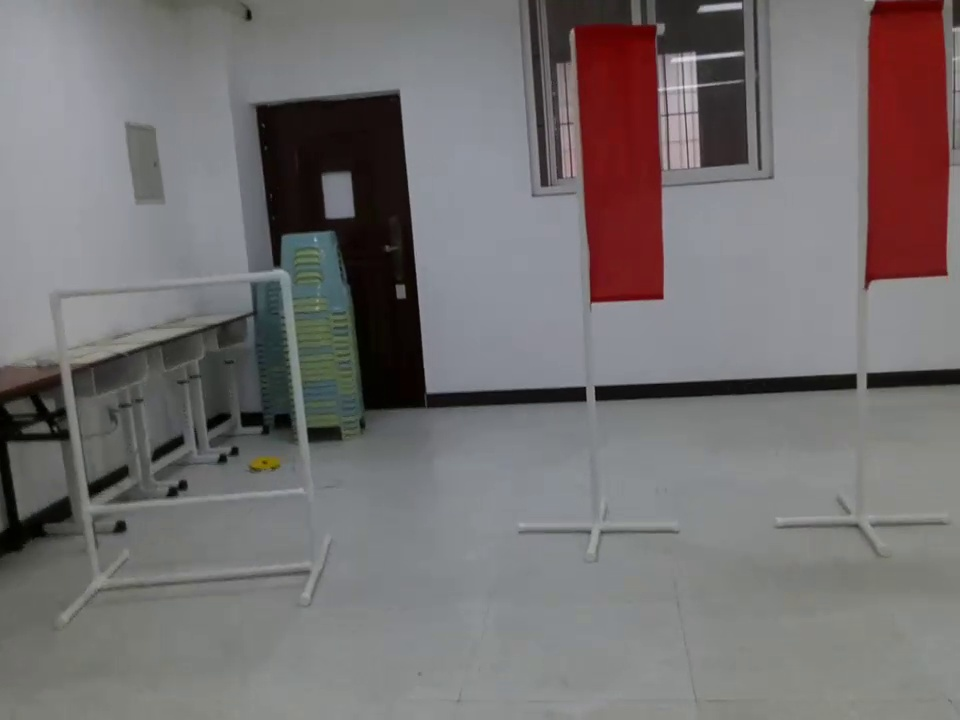qi: (565, 25, 663, 306), (870, 5, 951, 294)
